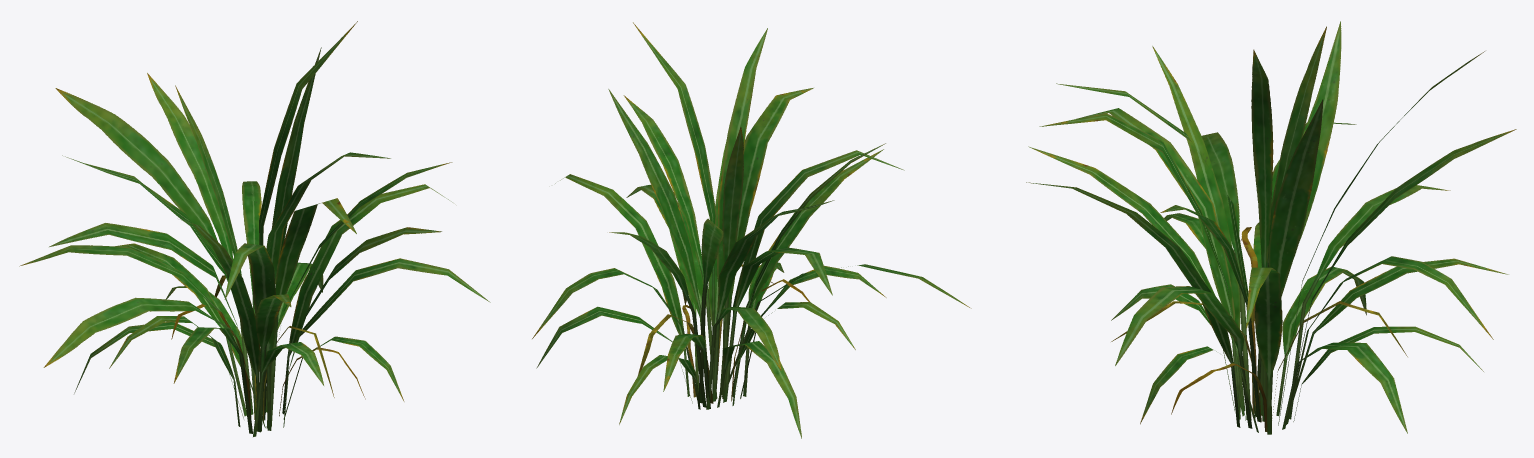
File: grass_Gamba.FBX
3 views of the same model, side by side, from view 1: azimuth 30°, elevation 25°; view 2: azimuth 150°, elevation 25°; view 3: azimuth 270°, elevation 25° (orthographic). The views are drawn at different scales.
Visible parts, largest first — view 1: grass_Gamba_01; view 2: grass_Gamba_01; view 3: grass_Gamba_01.
Part boxes in pixels (<box>): grass_Gamba_01: <box>19,21,490,436</box>; grass_Gamba_01: <box>532,22,971,438</box>; grass_Gamba_01: <box>1026,21,1516,434</box>.
Bounding box in the file's own units: 118 × 97.43 × 105.
